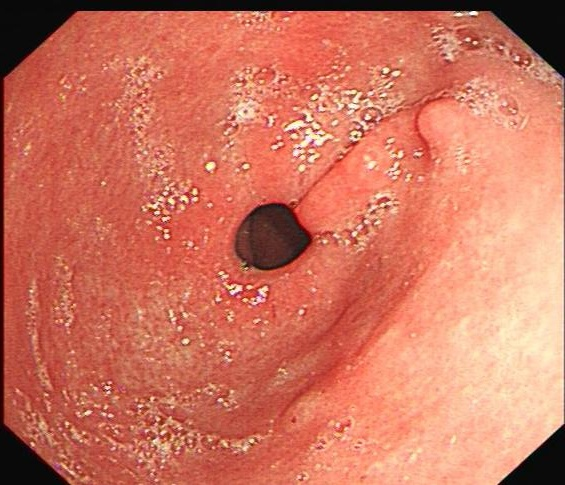Polyp: (410, 92, 475, 162)
